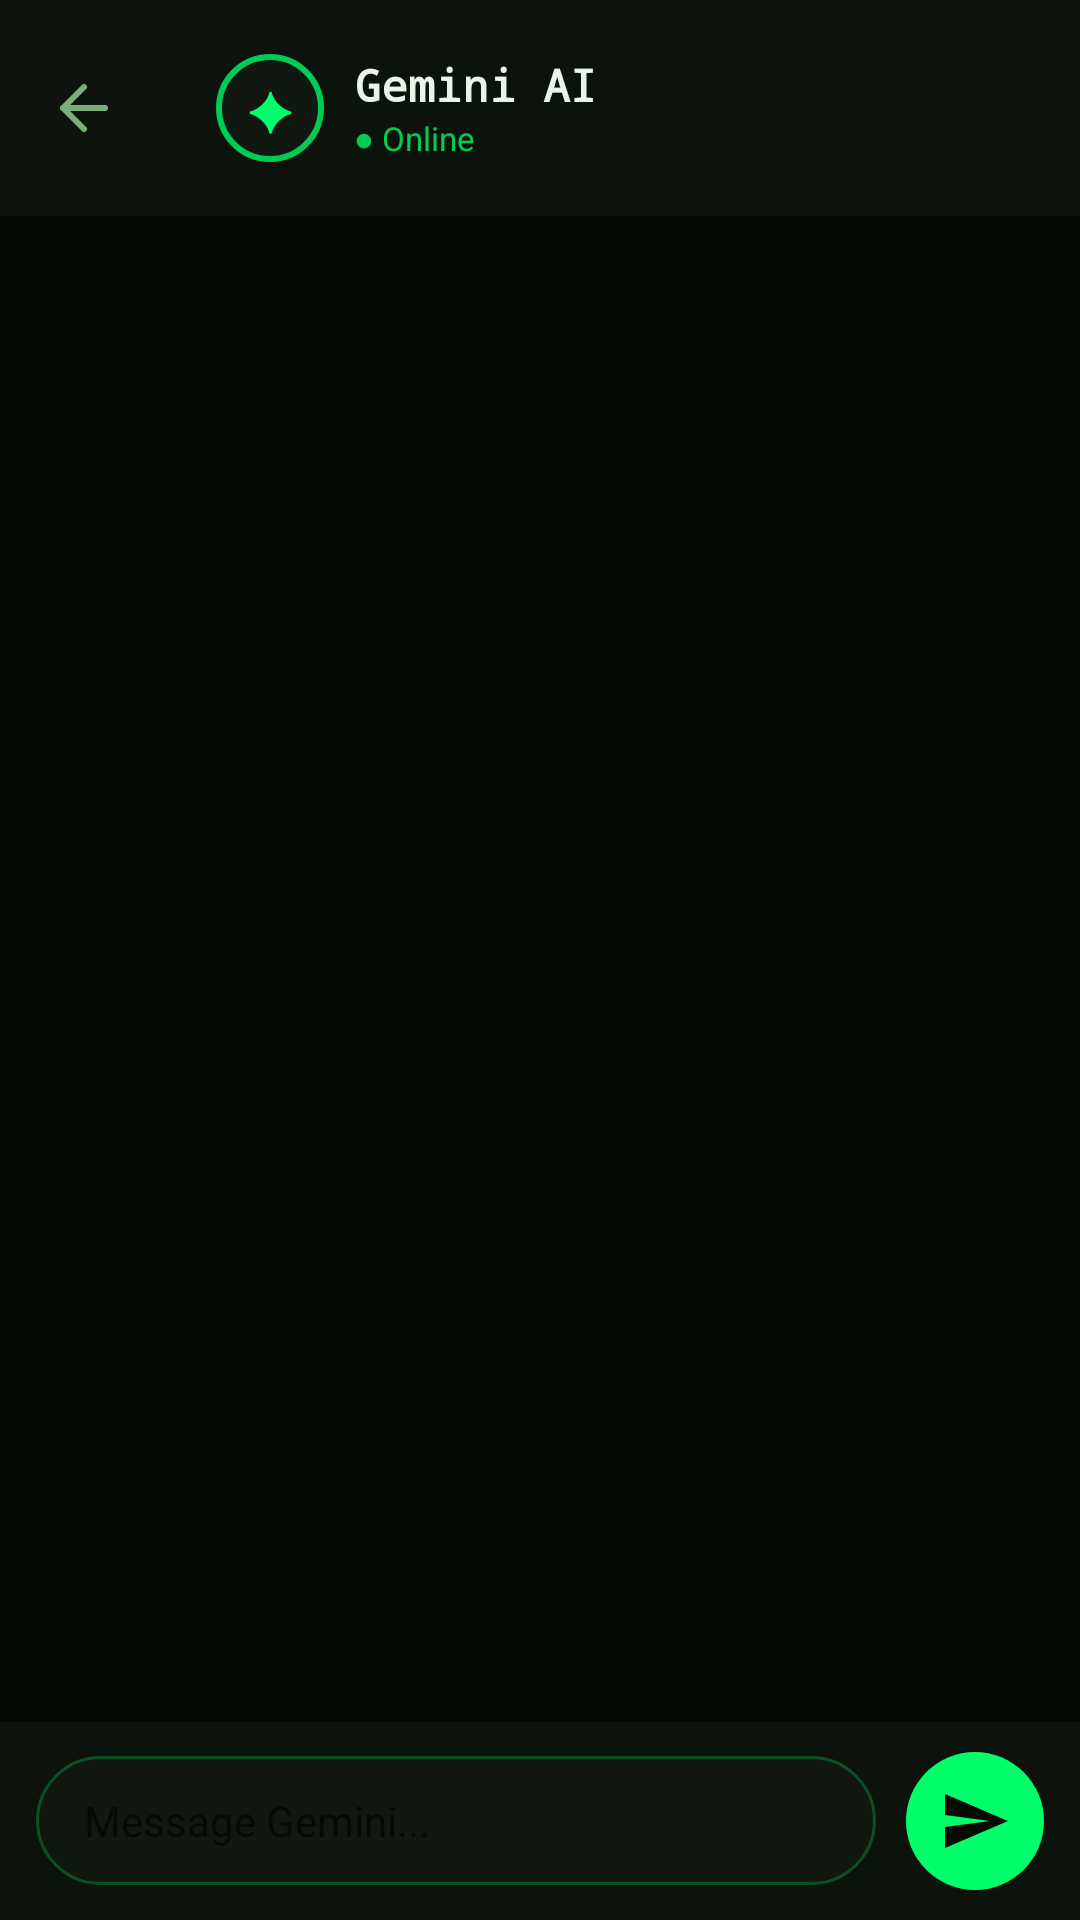

Icons on this 1080x1920 Android screen, each with the point to tap as [x,y]:
send: [975,1821]
